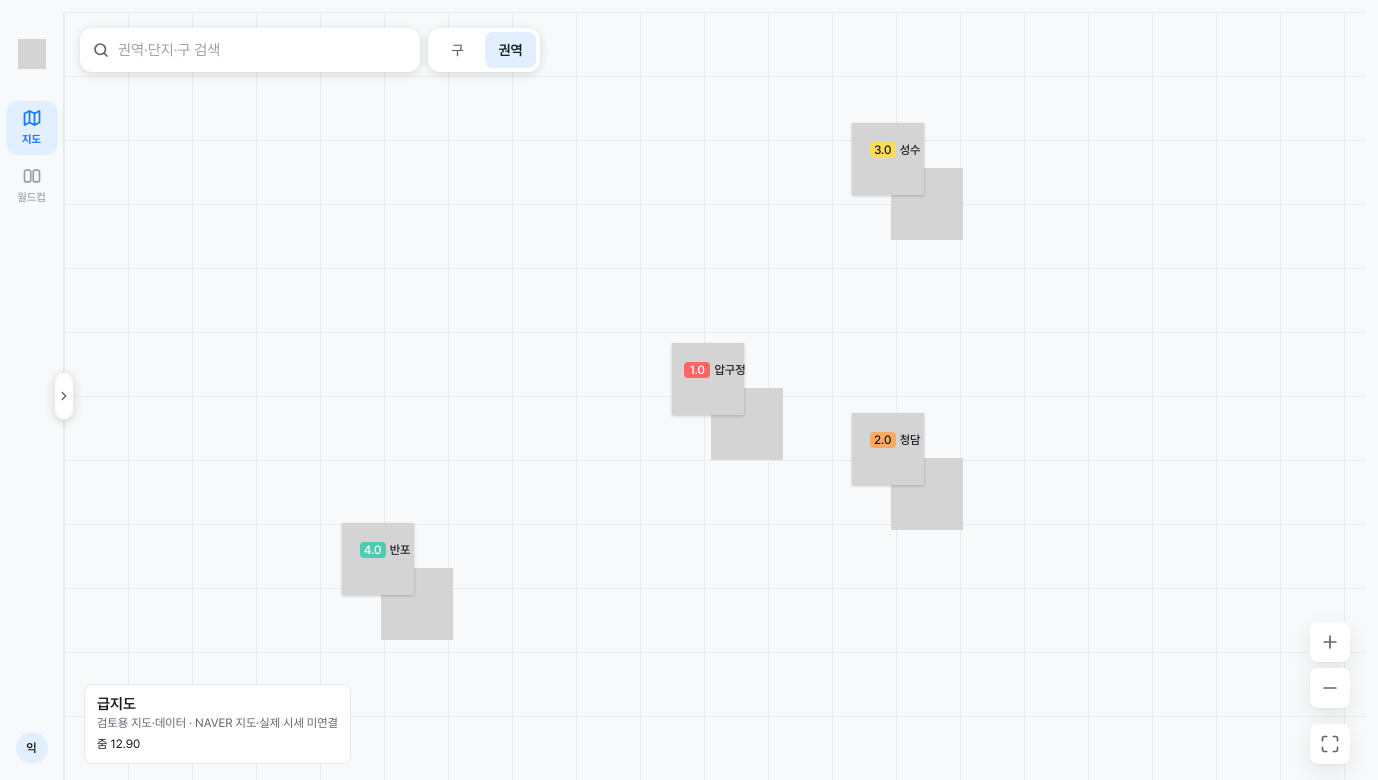
Test case: exploration selection and lifecycle › supports error retry, deduplicates list identities, and destroys resources on unmount
The width and height of the screenshot is (1378, 780).
What coordinates should you click on to do the following:
click the button with aria-label "권역 압구정"
I would click on:
 (715, 370)
Its box is left=672, top=343, right=758, bottom=396.
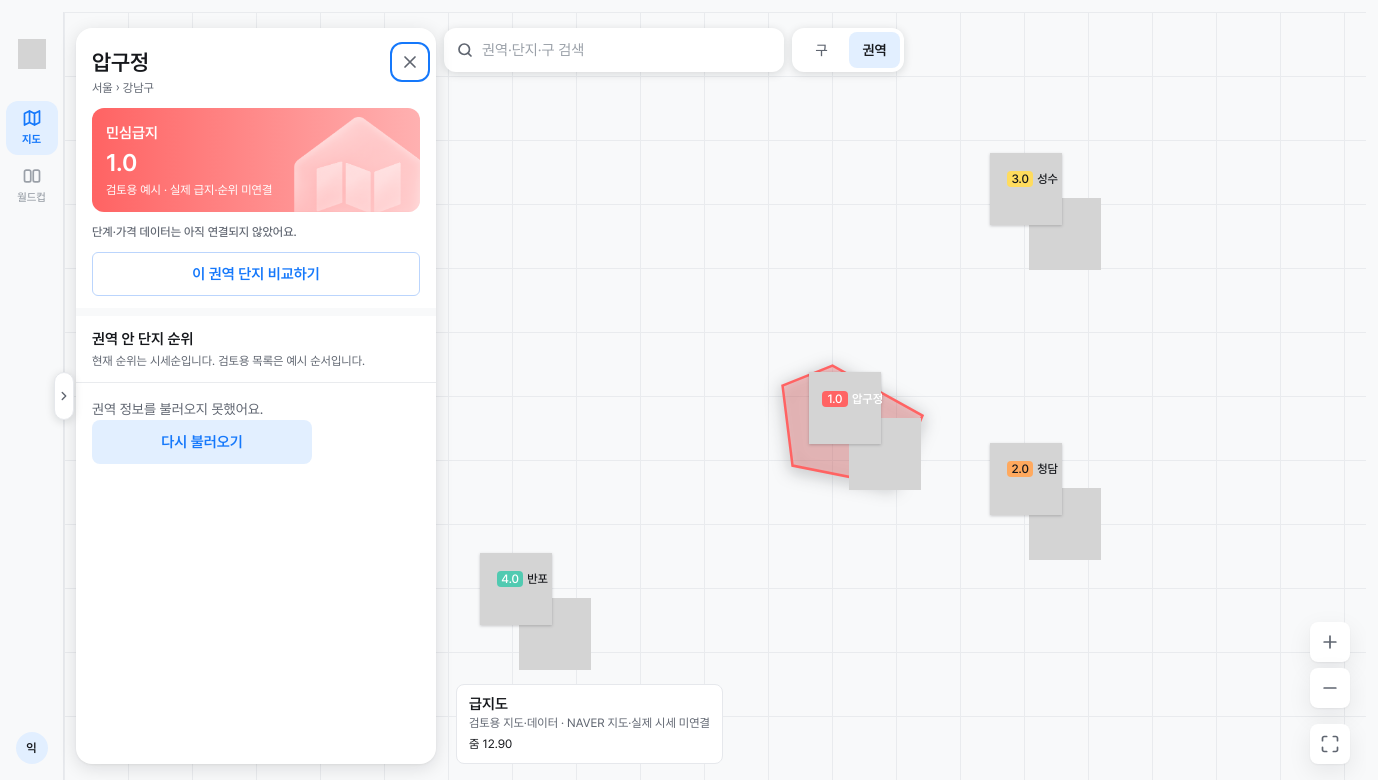
What coordinates should you click on to do the following:
click the button "다시 불러오기"
I would click on:
 (202, 442)
Its box is left=92, top=420, right=312, bottom=464.
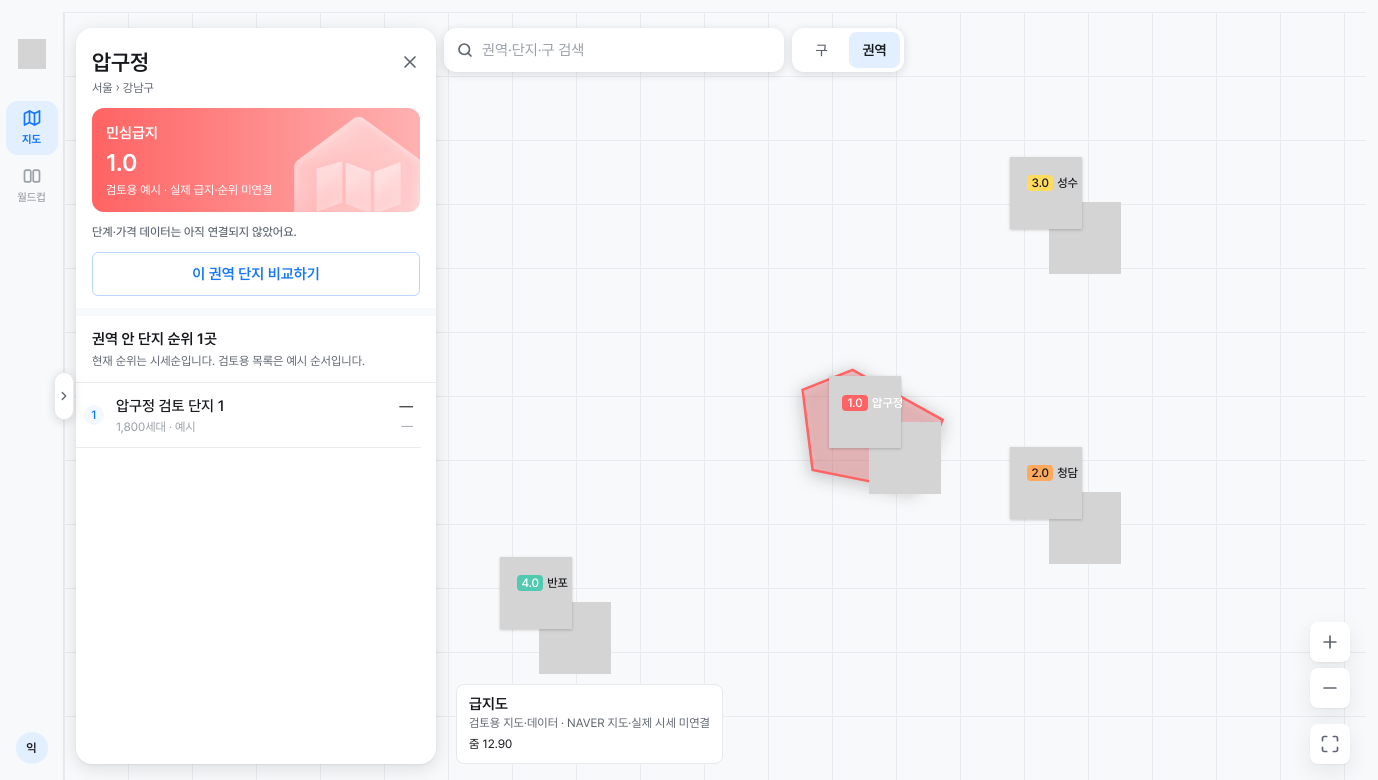
Check: the number of buttons named "목록 단지 압구정 검토 단지 1" is 1, box left=76, top=383, right=421, bottom=448
